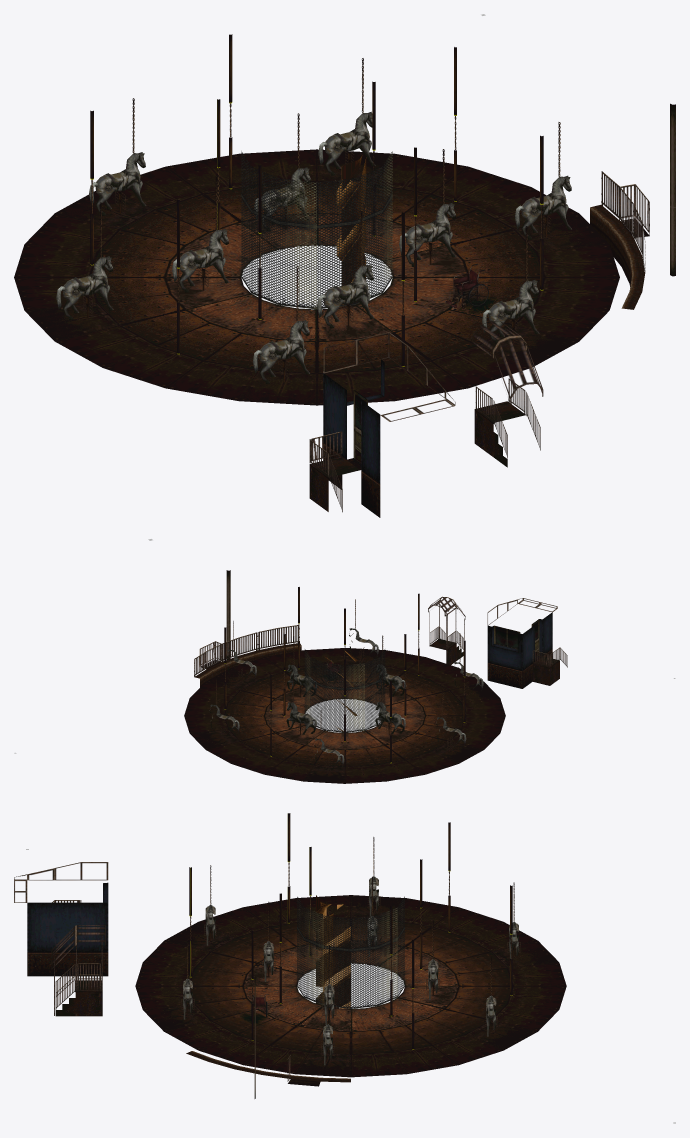
File: APU0002.glb
3 views of the same model, one above another, from view 1: azimuth 30°, elevation 25°; view 2: azimuth 150°, elevation 25°; view 3: azimuth 270°, elevation 25° (orthographic). The views are drawn at different scales.
Parts seen in each view (by area): view 1: MGR01_FA#1_m0, MGR01_FA#3_m0, MGR01_FA_m0, MGR01_FA#2_m0, FENCE_HI#2_m0, MGR_KOYA_m0, SAKU2_BA_m0, FENCE_HI#3_m0, MGR_STR__m1, MGR_DRL__m0, MGR05_HI#5_m0, MGR05_HI_m0 (+23 smaller); view 2: MGR01_FA#2_m0, MGR01_FA#1_m0, MGR01_FA_m0, MGR01_FA#3_m0, MGR_KOYA_m0, FENCE_HI#1_m0, SAKU2_BA_m0, FENCE_HI_m0, SAK_POL__m0, MGR_STR__m0, MGR05_HI_m0, MGR05_HI#2_m0 (+14 smaller); view 3: MGR01_FA#2_m0, MGR01_FA_m0, MGR01_FA#3_m0, MGR01_FA#1_m0, MGR_KOYA_m0, FENCE_HI_m0, FENCE_HI#3_m0, MGR_DRL__m0, MGR_STR__m1, MGR_STR__m0, MGR05_HI#5_m0, MGR05_HI#1_m0 (+10 smaller).
Part boxes in pixels (<box>): MGR01_FA#1_m0: <box>55,293,467,405</box>; MGR01_FA#3_m0: <box>355,214,619,388</box>; MGR01_FA_m0: <box>14,166,278,340</box>; MGR01_FA#2_m0: <box>166,149,578,261</box>; FENCE_HI#2_m0: <box>251,166,354,309</box>; MGR_KOYA_m0: <box>309,359,384,517</box>; SAKU2_BA_m0: <box>590,171,649,309</box>; FENCE_HI#3_m0: <box>355,151,392,304</box>; MGR_STR__m1: <box>472,321,543,458</box>; MGR_DRL__m0: <box>337,154,366,307</box>; MGR05_HI#5_m0: <box>514,213,608,252</box>; MGR05_HI_m0: <box>25,302,119,341</box>; MGR01_FA#2_m0: <box>184,682,309,774</box>; MGR01_FA#1_m0: <box>380,657,505,749</box>; MGR01_FA_m0: <box>265,730,478,783</box>; MGR01_FA#3_m0: <box>206,648,424,700</box>; MGR_KOYA_m0: <box>487,612,567,688</box>; FENCE_HI#1_m0: <box>325,657,379,732</box>; SAKU2_BA_m0: <box>194,625,301,687</box>; FENCE_HI_m0: <box>304,649,324,730</box>; SAK_POL__m0: <box>194,570,234,676</box>; MGR_STR__m0: <box>429,597,464,664</box>; MGR05_HI_m0: <box>430,741,483,763</box>; MGR05_HI#2_m0: <box>303,765,344,783</box>; MGR01_FA#2_m0: <box>351,986,566,1077</box>; MGR01_FA_m0: <box>351,895,566,986</box>; MGR01_FA#3_m0: <box>135,986,350,1077</box>; MGR01_FA#1_m0: <box>135,895,350,986</box>; MGR_KOYA_m0: <box>27,882,108,976</box>; FENCE_HI_m0: <box>351,896,404,1008</box>; FENCE_HI#3_m0: <box>297,897,350,1008</box>; MGR_DRL__m0: <box>316,895,350,1008</box>; MGR_STR__m1: <box>51,925,105,1009</box>; MGR_STR__m0: <box>52,927,104,1016</box>; MGR05_HI#5_m0: <box>295,1052,350,1077</box>; MGR05_HI#1_m0: <box>466,1020,537,1050</box>.
Bounding box in the file's own units: 24.1 × 6.5 × 24.55.
31 materials, 30 textured.
